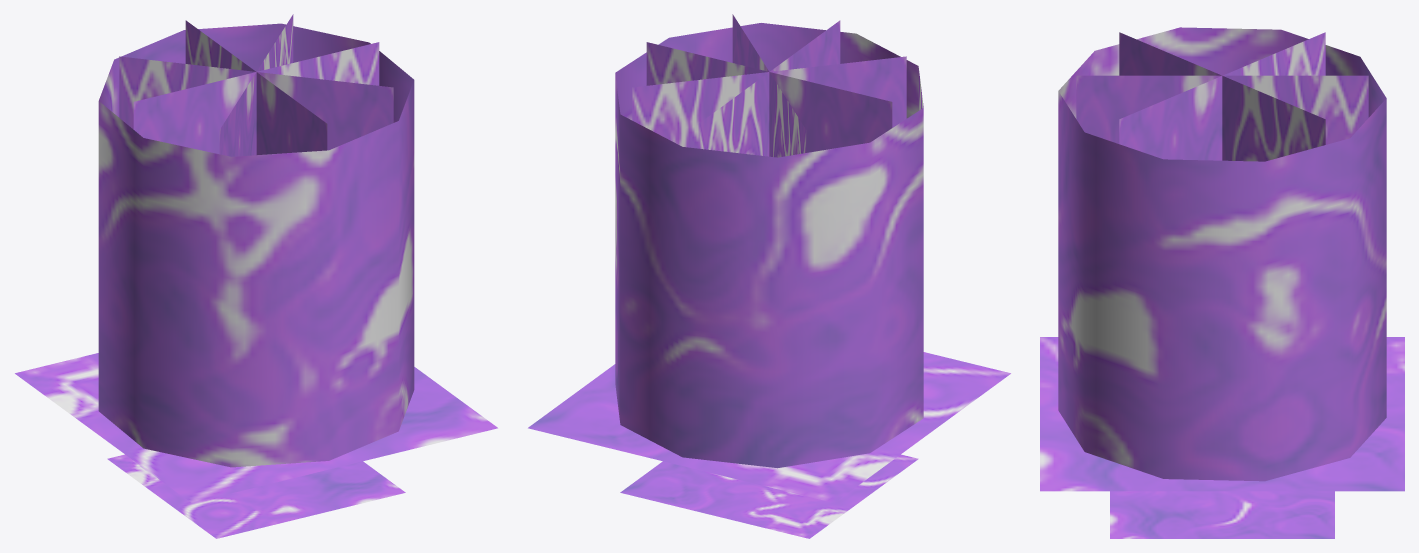
3 renders of one model, left to right at view 1: azimuth 30°, elevation 25°; view 2: azimuth 150°, elevation 25°; view 3: azimuth 270°, elevation 25°, orthographic. The views are drawn at different scales.
Visible parts, largest first — view 1: 1, 2, 3; view 2: 1, 2, 3; view 3: 1, 2, 3.
Part boxes in pixels (<box>): 1: <box>98,23,414,467</box>; 2: <box>119,14,393,156</box>; 3: <box>15,353,497,538</box>; 1: <box>615,23,923,468</box>; 2: <box>632,14,906,157</box>; 3: <box>528,352,1010,538</box>; 1: <box>1058,27,1386,481</box>; 2: <box>1076,32,1368,161</box>; 3: <box>1040,337,1404,538</box>.
Bounding box in the file's own units: 43.13 × 54.22 × 43.13.
